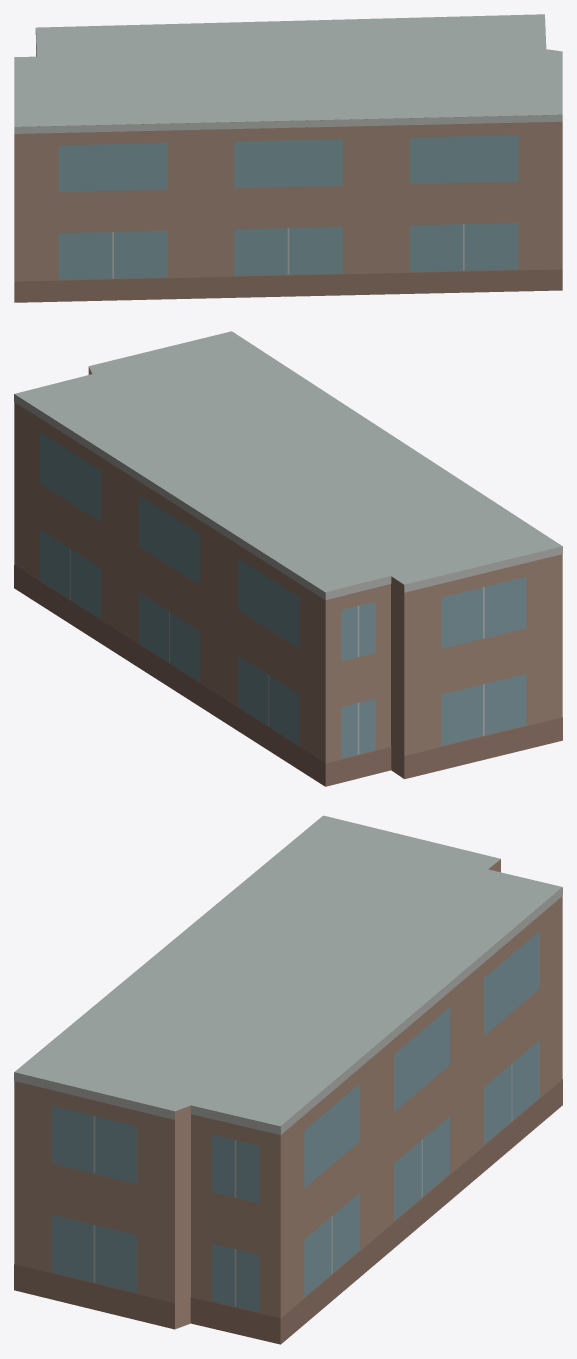
File: survey-upis-32875395.glb
3 renders of one model, top to bottom at view 1: azimuth 30°, elevation 25°; view 2: azimuth 150°, elevation 25°; view 3: azimuth 270°, elevation 25°, orthographic. The views are drawn at different scales.
Parts seen in each view (by area): view 1: survey-upis-32875395.tmp; view 2: survey-upis-32875395.tmp; view 3: survey-upis-32875395.tmp.
Part boxes in pixels (x1,y1,x2,y2): survey-upis-32875395.tmp: (14,14,562,302); survey-upis-32875395.tmp: (14,331,562,786); survey-upis-32875395.tmp: (14,815,562,1344).
Size of the model in its own units: 18.67 by 6.1 by 13.92.
